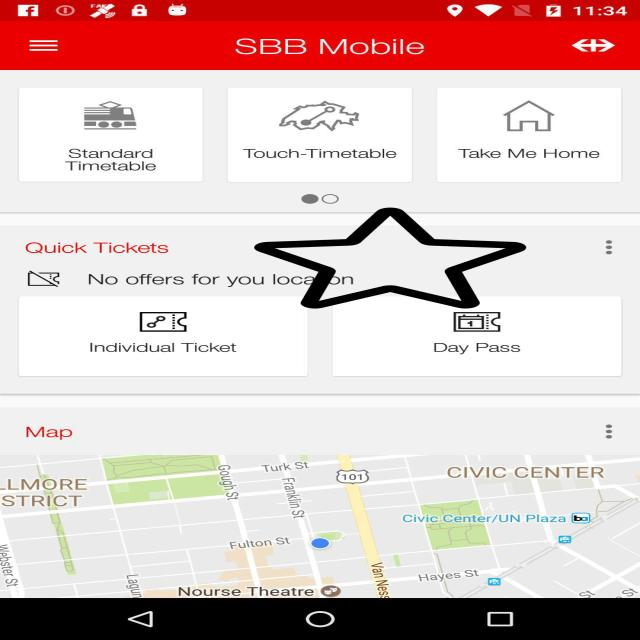forced continuity: (254, 205, 526, 311)
